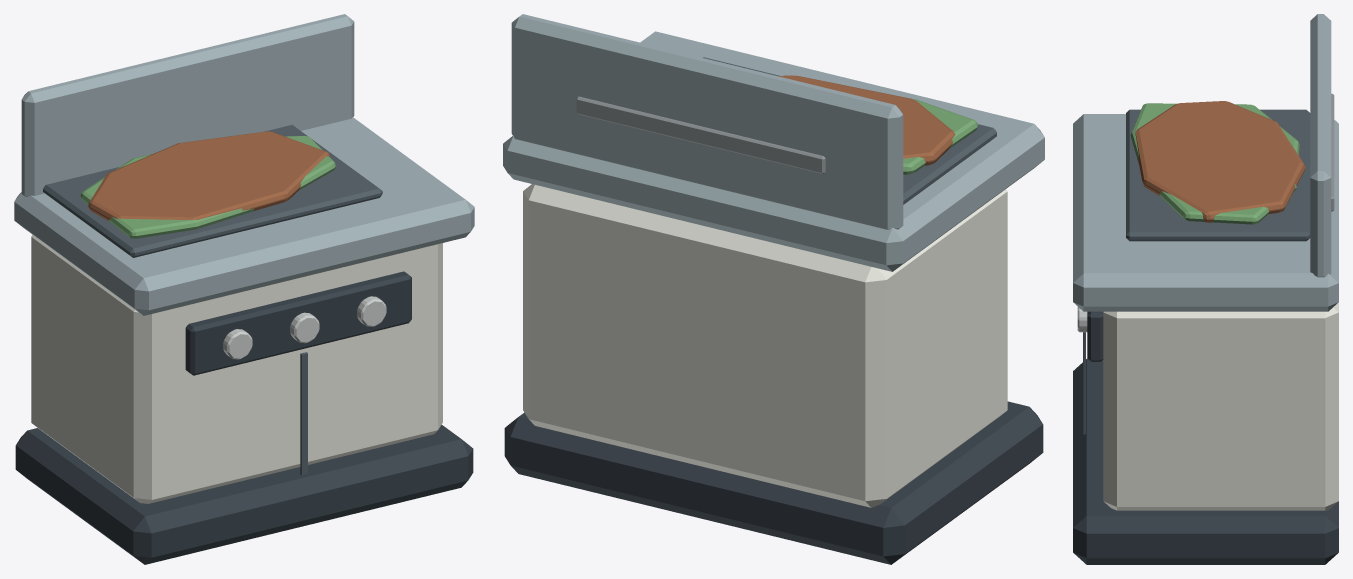
Rendered from GriddleStation.glb.
The picture shows the model from 3 angles, left to right: view 1: azimuth 30°, elevation 25°; view 2: azimuth 150°, elevation 25°; view 3: azimuth 270°, elevation 25°; orthographic projection. The views are drawn at different scales.
Visible parts, largest first — view 1: GriddleCabinet, BackSplash, GriddleTop, GriddlePlinth, MeatGriddleFoodMesh, ControlStrip, CookingPlate, VegetableGriddleFoodMesh, LowerDoorGap, GriddleKnob, GriddleKnob.001, GriddleKnob.002; view 2: GriddleCabinet, BackSplash, GriddlePlinth, GriddleTop, WarmStripe, MeatGriddleFoodMesh, CookingPlate, VegetableGriddleFoodMesh; view 3: GriddleCabinet, GriddleTop, GriddlePlinth, MeatGriddleFoodMesh, CookingPlate, BackSplash, VegetableGriddleFoodMesh, ControlStrip, WarmStripe.
Boxes of the visible parts, <box> form: GriddleCabinet: <box>31,234,442,503</box>; BackSplash: <box>21,14,354,196</box>; GriddleTop: <box>14,117,474,315</box>; GriddlePlinth: <box>15,424,473,564</box>; MeatGriddleFoodMesh: <box>88,131,330,220</box>; ControlStrip: <box>185,271,411,375</box>; CookingPlate: <box>43,125,382,257</box>; VegetableGriddleFoodMesh: <box>80,135,335,238</box>; LowerDoorGap: <box>300,352,307,475</box>; GriddleKnob: <box>223,329,252,359</box>; GriddleKnob.001: <box>290,312,319,343</box>; GriddleKnob.002: <box>357,296,386,326</box>; GriddleCabinet: <box>523,184,1007,507</box>; BackSplash: <box>511,14,903,229</box>; GriddlePlinth: <box>504,401,1043,564</box>; GriddleTop: <box>503,31,1044,271</box>; WarmStripe: <box>576,96,825,173</box>; MeatGriddleFoodMesh: <box>778,75,954,165</box>; CookingPlate: <box>703,57,996,204</box>; VegetableGriddleFoodMesh: <box>903,99,977,174</box>; GriddleCabinet: <box>1103,302,1338,510</box>; GriddleTop: <box>1073,114,1338,311</box>; GriddlePlinth: <box>1073,358,1338,564</box>; MeatGriddleFoodMesh: <box>1135,101,1305,222</box>; CookingPlate: <box>1126,109,1310,241</box>; BackSplash: <box>1310,14,1331,277</box>; VegetableGriddleFoodMesh: <box>1130,103,1299,224</box>; ControlStrip: <box>1087,311,1103,361</box>; WarmStripe: <box>1331,93,1334,211</box>.
Bounding box in the file's own units: 1.32 × 1.44 × 0.88.
